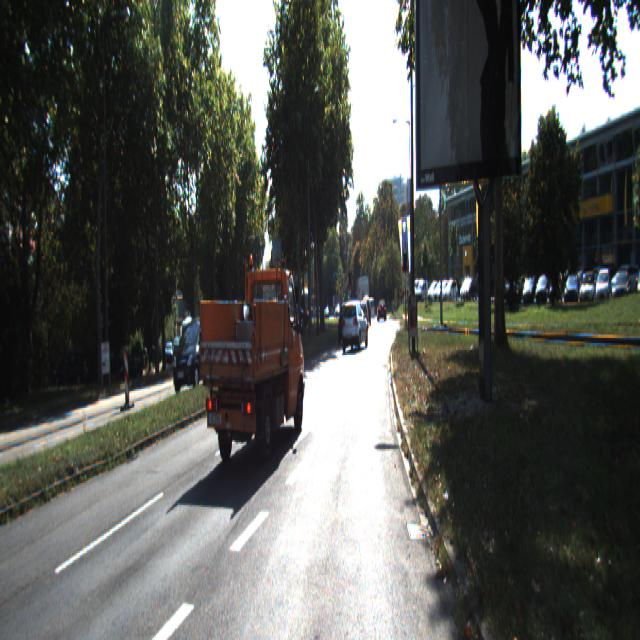Car: (195, 248, 308, 470), (245, 318, 295, 398), (172, 316, 218, 394), (341, 301, 368, 354), (273, 291, 291, 344), (338, 305, 358, 347)
